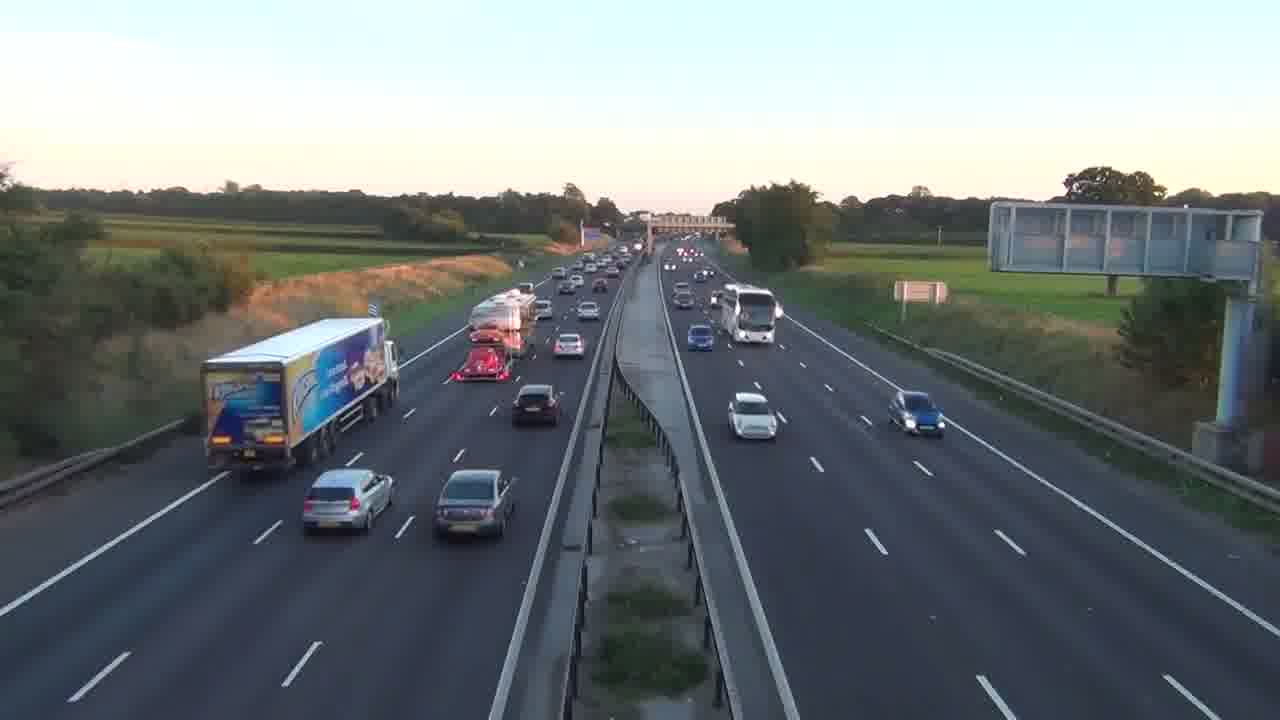car: (301, 467, 394, 535), (432, 467, 517, 539), (887, 390, 946, 438), (727, 392, 781, 442), (511, 383, 563, 426), (551, 331, 585, 359), (687, 321, 715, 352)
truck: (201, 314, 394, 472)
